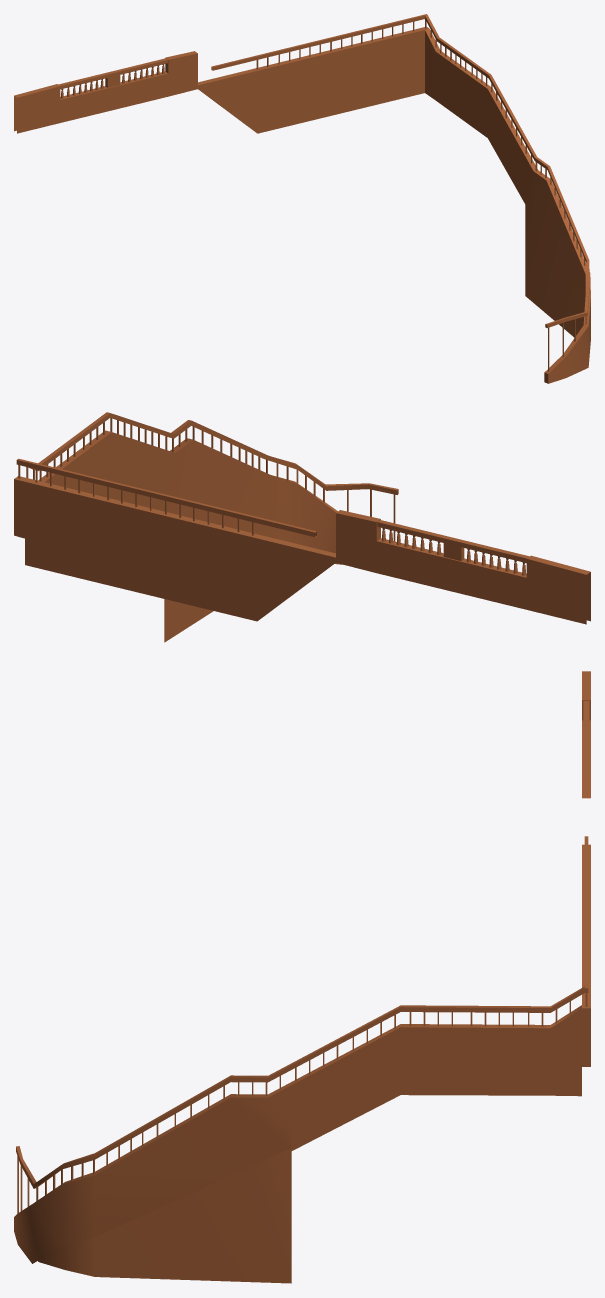
File: Rail.fbx
3 renders of one model, top to bottom at view 1: azimuth 30°, elevation 25°; view 2: azimuth 150°, elevation 25°; view 3: azimuth 270°, elevation 25°, orthographic. The views are drawn at different scales.
Visible parts, largest first — view 1: Rail; view 2: Rail; view 3: Rail.
Boxes of the visible parts, x1,y1,x2,y2 form: Rail: [14, 14, 590, 383]; Rail: [14, 412, 590, 642]; Rail: [14, 671, 590, 1283].
Bounding box in the file's own units: 711 × 371 × 596.
